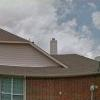Chimney: (44, 29, 63, 56)
